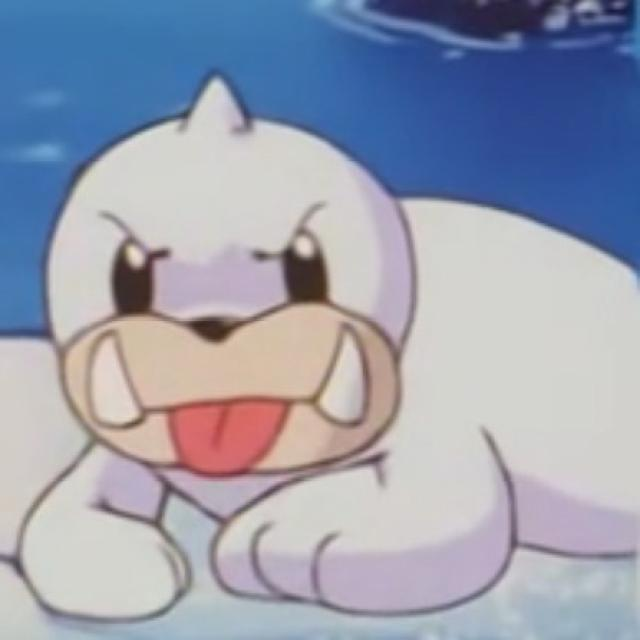Seel: (28, 77, 635, 624)
